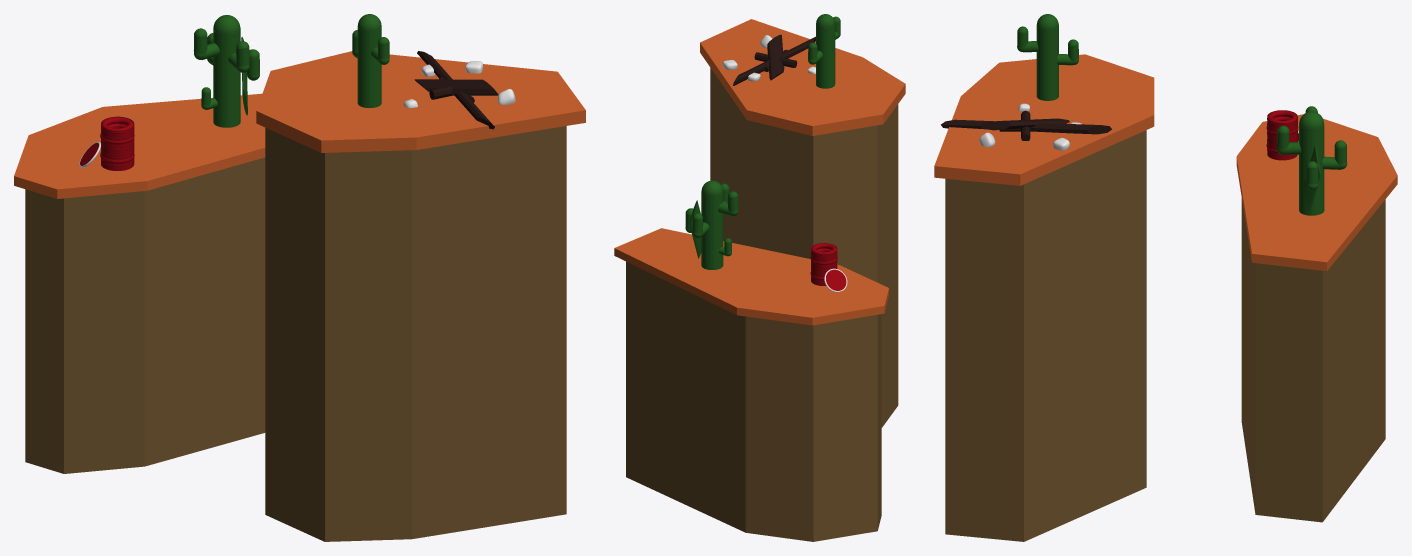
File: ile_petite_desert_2.fbx
3 views of the same model, side by side, from view 1: azimuth 30°, elevation 25°; view 2: azimuth 150°, elevation 25°; view 3: azimuth 270°, elevation 25° (orthographic). The views are drawn at different scales.
Parts seen in each view (by area): view 1: Cylinder, Cylinder.001, Cylinder.003, Cylinder.002, Cactus, Cactus.002, Cylinder.015, Cylinder.017, Cylinder.016; view 2: Cylinder.001, Cylinder, Cylinder.002, Cylinder.003, Cactus, Cactus.002, Cylinder.015, Cylinder.017, Cylinder.016, Cylinder.014; view 3: Cylinder, Cylinder.001, Cylinder.003, Cylinder.002, Cactus.002, Cactus, Cylinder.016, Cylinder.015, Cylinder.017.
Part boxes in pixels (bbox=[...]): Cylinder: bbox=[265, 126, 566, 541]; Cylinder.001: bbox=[25, 157, 265, 473]; Cylinder.003: bbox=[256, 51, 585, 152]; Cylinder.002: bbox=[14, 93, 265, 198]; Cactus: bbox=[213, 28, 240, 127]; Cactus.002: bbox=[357, 25, 381, 107]; Cylinder.015: bbox=[101, 116, 134, 170]; Cylinder.017: bbox=[414, 79, 498, 95]; Cylinder.016: bbox=[417, 51, 494, 129]; Cylinder.001: bbox=[626, 261, 881, 541]; Cylinder: bbox=[710, 68, 898, 427]; Cylinder.002: bbox=[614, 228, 888, 325]; Cylinder.003: bbox=[700, 19, 905, 135]; Cactus: bbox=[701, 191, 723, 269]; Cactus.002: bbox=[816, 23, 835, 88]; Cylinder.015: bbox=[811, 243, 837, 285]; Cylinder.017: bbox=[767, 34, 784, 80]; Cylinder.016: bbox=[733, 36, 815, 85]; Cylinder.014: bbox=[826, 269, 846, 290]; Cylinder: bbox=[945, 130, 1146, 541]; Cylinder.001: bbox=[1241, 198, 1385, 522]; Cylinder.003: bbox=[934, 54, 1154, 185]; Cylinder.002: bbox=[1236, 114, 1397, 271]; Cactus.002: bbox=[1036, 24, 1058, 100]; Cactus: bbox=[1299, 123, 1324, 215]; Cylinder.016: bbox=[941, 119, 1111, 134]; Cylinder.015: bbox=[1267, 110, 1297, 160]; Cylinder.017: bbox=[980, 118, 1069, 130].
Bounding box in the file's own units: 2044 × 2509 × 2286.
